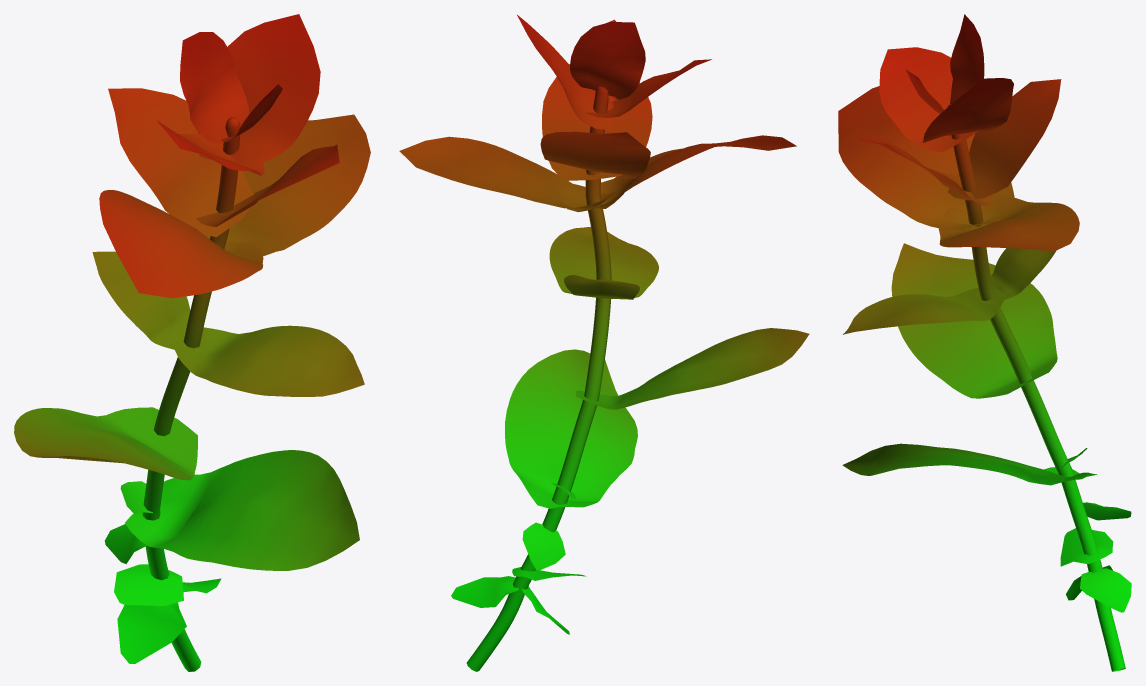
Rendered from Rubber Bush_LOD0_Var8_xffhfekia.fbx.
The picture shows the model from 3 angles, left to right: view 1: azimuth 30°, elevation 25°; view 2: azimuth 150°, elevation 25°; view 3: azimuth 270°, elevation 25°; orthographic projection. The views are drawn at different scales.
Visible parts, largest first — view 1: _hyar_Var8_LOD0; view 2: _hyar_Var8_LOD0; view 3: _hyar_Var8_LOD0.
Boxes of the visible parts, x1,y1,x2,y2 form: _hyar_Var8_LOD0: [14, 14, 370, 671]; _hyar_Var8_LOD0: [399, 15, 809, 671]; _hyar_Var8_LOD0: [838, 14, 1131, 671].
Bounding box in the file's own units: 24.59 × 42.89 × 18.47.
